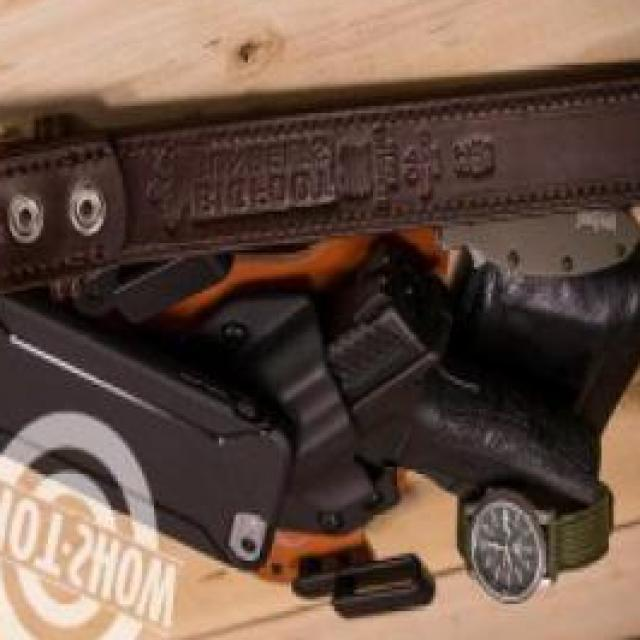pistol: (294, 256, 599, 512)
